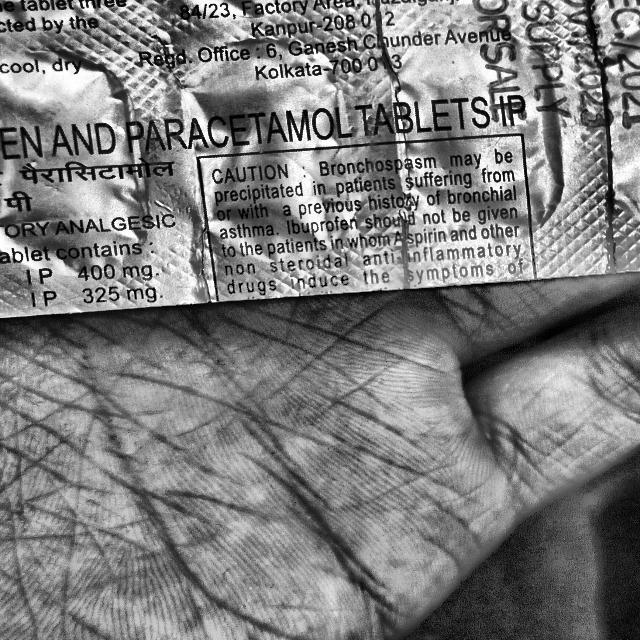IBUPROFEN AND PARACETAMOL TABLETS: (0, 70, 554, 184)
